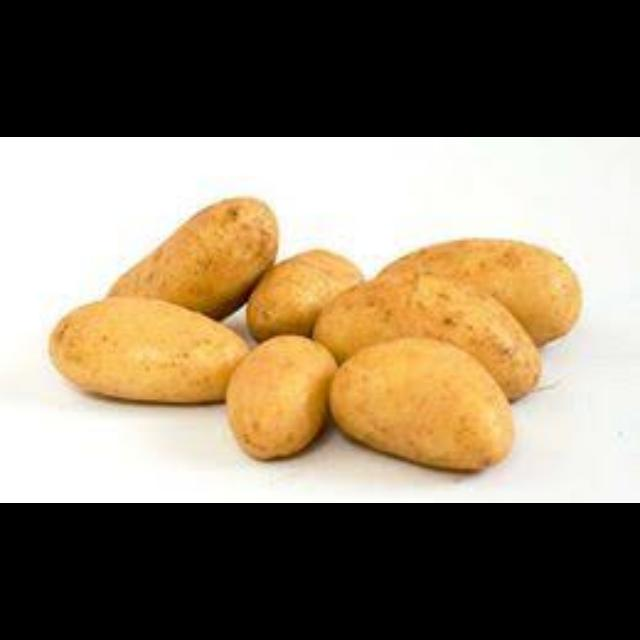Potato: (319, 342, 526, 476), (43, 293, 257, 417), (222, 325, 346, 469), (248, 236, 369, 348)
